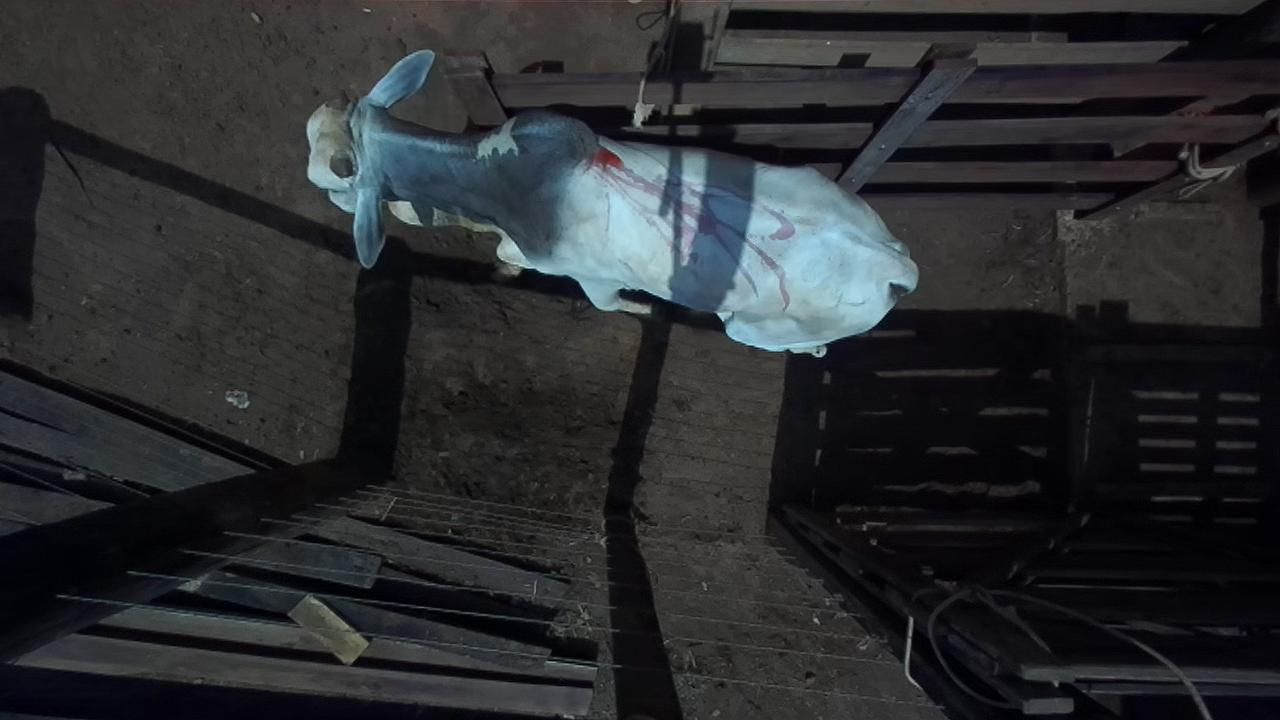cattle: (304, 47, 920, 358)
